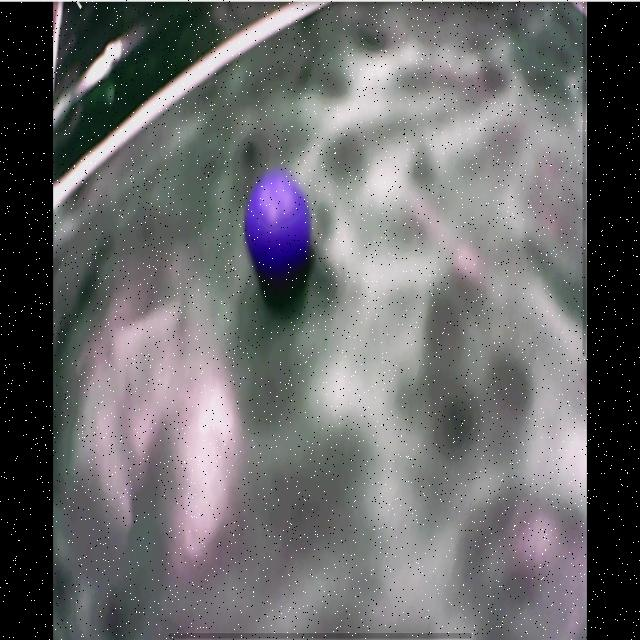ball: (245, 169, 311, 277)
